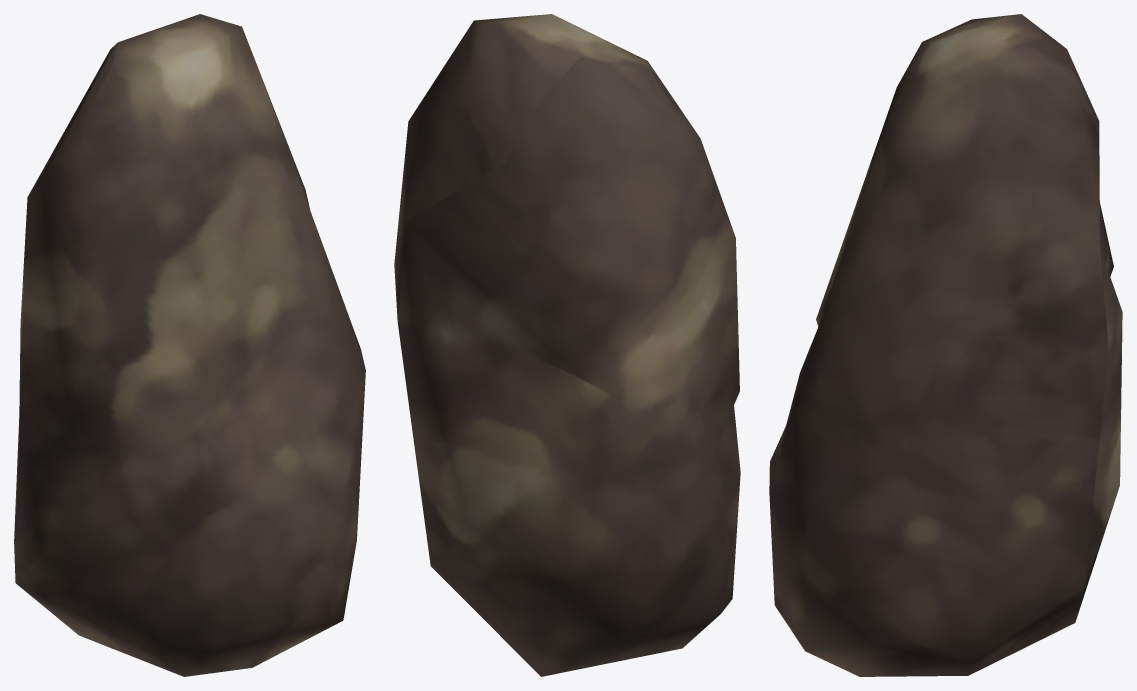
Rendered from Ancient_Stones3.fbx.
The picture shows the model from 3 angles, left to right: view 1: azimuth 30°, elevation 25°; view 2: azimuth 150°, elevation 25°; view 3: azimuth 270°, elevation 25°; orthographic projection. The views are drawn at different scales.
Visible parts, largest first — view 1: Ancient_Stones3; view 2: Ancient_Stones3; view 3: Ancient_Stones3.
Part boxes in pixels (x1,y1,x2,y2): Ancient_Stones3: (14,14,365,676); Ancient_Stones3: (394,14,740,676); Ancient_Stones3: (769,14,1122,676).
Size of the model in its own units: 0.0408 by 0.0402 by 0.0774.
